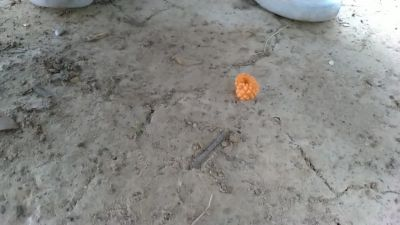eggs: (235, 67, 259, 101)
